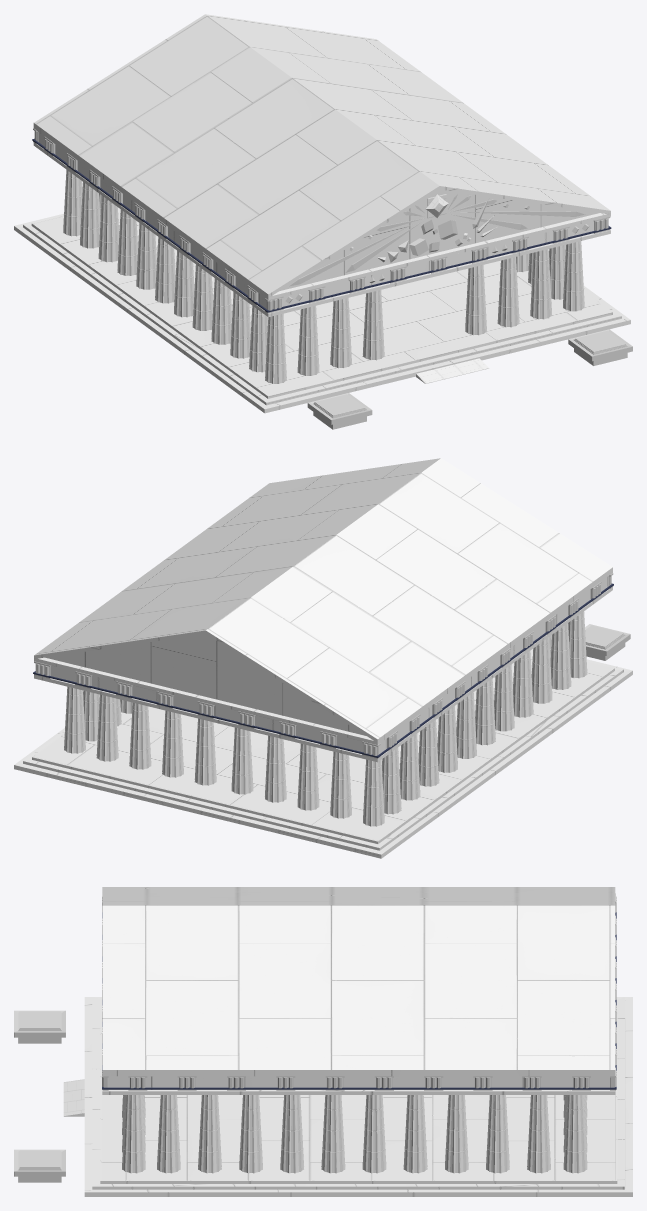
The model's file is greek temple.fbx.
3 renders of one model, top to bottom at view 1: azimuth 30°, elevation 25°; view 2: azimuth 150°, elevation 25°; view 3: azimuth 270°, elevation 25°, orthographic. The views are drawn at different scales.
Parts seen in each view (by area): view 1: roof, floor, stand2, stand, Cylinder.016, Cylinder.009, Cylinder.014, Cylinder.051, Cylinder.049, Cylinder.048, Cylinder.050, Cylinder.052 (+15 smaller); view 2: roof, floor, Cylinder.062, Cylinder.058, Cylinder.055, Cylinder.060, Cylinder.056, Cylinder.057, Cylinder.061, Cylinder.054, Cylinder.059, Cylinder.053 (+15 smaller); view 3: roof, floor, stand, stand2, Cylinder.072, Cylinder.053, Cylinder.064, Cylinder.067, Cylinder.068, Cylinder.071, Cylinder.009, Cylinder.065 (+6 smaller).
Part boxes in pixels (x1,y1,x2,y2): roof: [33, 14, 610, 317]; floor: [14, 207, 630, 413]; stand2: [307, 393, 372, 429]; stand: [568, 329, 632, 365]; Cylinder.016: [497, 257, 519, 327]; Cylinder.009: [563, 241, 584, 311]; Cylinder.014: [530, 249, 551, 319]; Cylinder.051: [297, 306, 319, 375]; Cylinder.049: [362, 290, 384, 360]; Cylinder.048: [465, 265, 486, 335]; Cylinder.050: [330, 298, 351, 368]; Cylinder.052: [265, 313, 286, 383]; roof: [34, 458, 612, 762]; floor: [14, 649, 632, 858]; Cylinder.062: [363, 759, 384, 826]; Cylinder.058: [231, 727, 253, 794]; Cylinder.055: [129, 702, 151, 769]; Cylinder.060: [297, 743, 319, 810]; Cylinder.056: [162, 710, 183, 777]; Cylinder.057: [194, 718, 216, 785]; Cylinder.061: [330, 751, 351, 818]; Cylinder.054: [96, 694, 118, 761]; Cylinder.059: [265, 735, 286, 802]; Cylinder.053: [64, 686, 85, 753]; roof: [102, 887, 615, 1094]; floor: [84, 997, 632, 1196]; stand: [14, 1149, 65, 1182]; stand2: [14, 1010, 65, 1043]; Cylinder.072: [527, 1095, 550, 1173]; Cylinder.053: [563, 1095, 587, 1173]; Cylinder.064: [198, 1095, 221, 1173]; Cylinder.067: [321, 1095, 345, 1173]; Cylinder.068: [362, 1095, 386, 1173]; Cylinder.071: [486, 1095, 509, 1173]; Cylinder.009: [122, 1095, 145, 1173]; Cylinder.065: [239, 1095, 262, 1173].
Bounding box in the file's own units: 4497 × 2117 × 6019.
